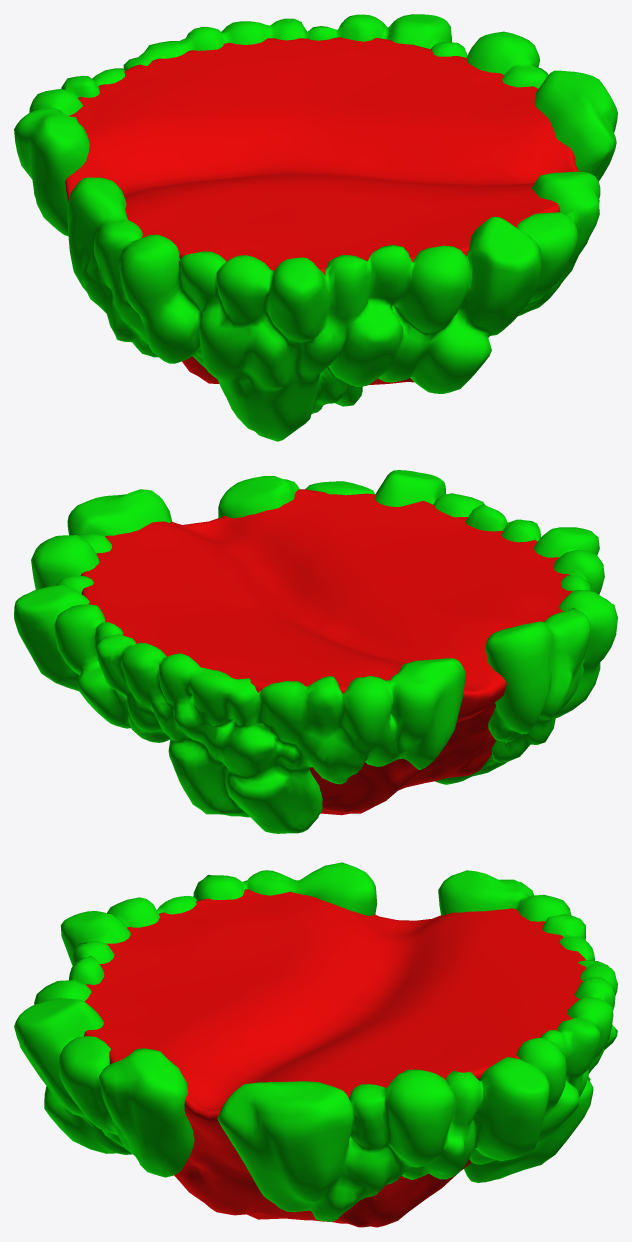
File: BigIslandRiver_low.fbx
The picture shows the model from 3 angles, top to bottom: view 1: azimuth 30°, elevation 25°; view 2: azimuth 150°, elevation 25°; view 3: azimuth 270°, elevation 25°; orthographic projection. The views are drawn at different scales.
Visible parts, largest first — view 1: PM3D_PolySphere3, PM3D_PolySphere1; view 2: PM3D_PolySphere3, PM3D_PolySphere1; view 3: PM3D_PolySphere1, PM3D_PolySphere3.
Boxes of the visible parts, box(x1,y1,x2,y2) form: PM3D_PolySphere3: box(14, 14, 617, 441); PM3D_PolySphere1: box(65, 37, 578, 385); PM3D_PolySphere3: box(14, 470, 617, 833); PM3D_PolySphere1: box(80, 489, 572, 815); PM3D_PolySphere1: box(84, 889, 586, 1227); PM3D_PolySphere3: box(14, 862, 617, 1221).
Size of the model in its own units: 4.42 by 2.01 by 4.39.
